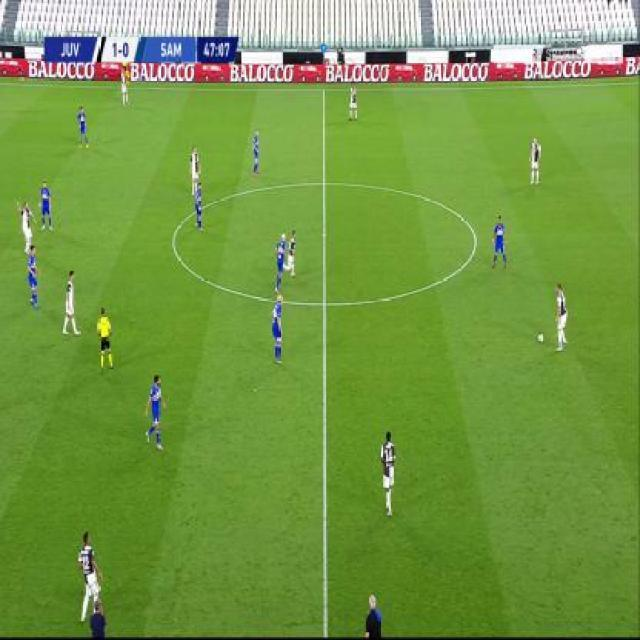ball: (537, 331, 545, 344)
player: (75, 527, 103, 624), (144, 371, 167, 453), (378, 427, 397, 516), (94, 303, 114, 371), (62, 267, 81, 336), (553, 279, 570, 353), (490, 212, 509, 271), (25, 242, 41, 311), (15, 199, 35, 253), (362, 592, 384, 640), (270, 292, 284, 365), (38, 179, 54, 230), (273, 231, 286, 293), (89, 598, 109, 638), (528, 133, 541, 186), (285, 227, 298, 278), (193, 178, 204, 232), (76, 105, 89, 150), (189, 143, 200, 196), (250, 127, 261, 176), (119, 62, 130, 107), (348, 80, 357, 122)
